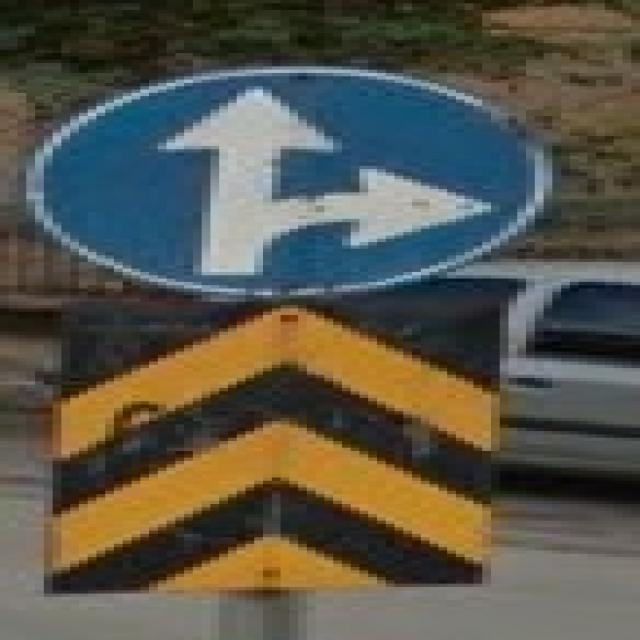Straight or Right: (40, 76, 549, 288)
